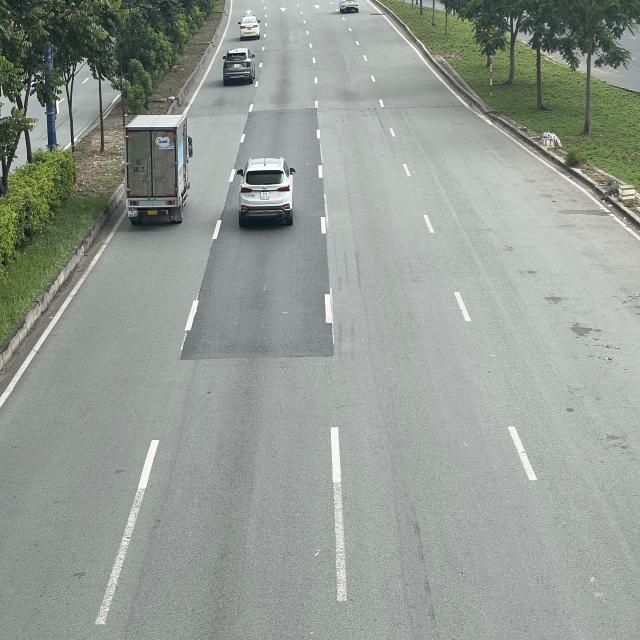car: (236, 157, 296, 225), (222, 45, 255, 83), (238, 14, 262, 40)
truck: (124, 114, 194, 222)
